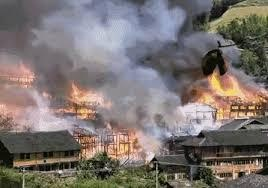fire: (189, 65, 268, 118), (45, 78, 111, 118)
